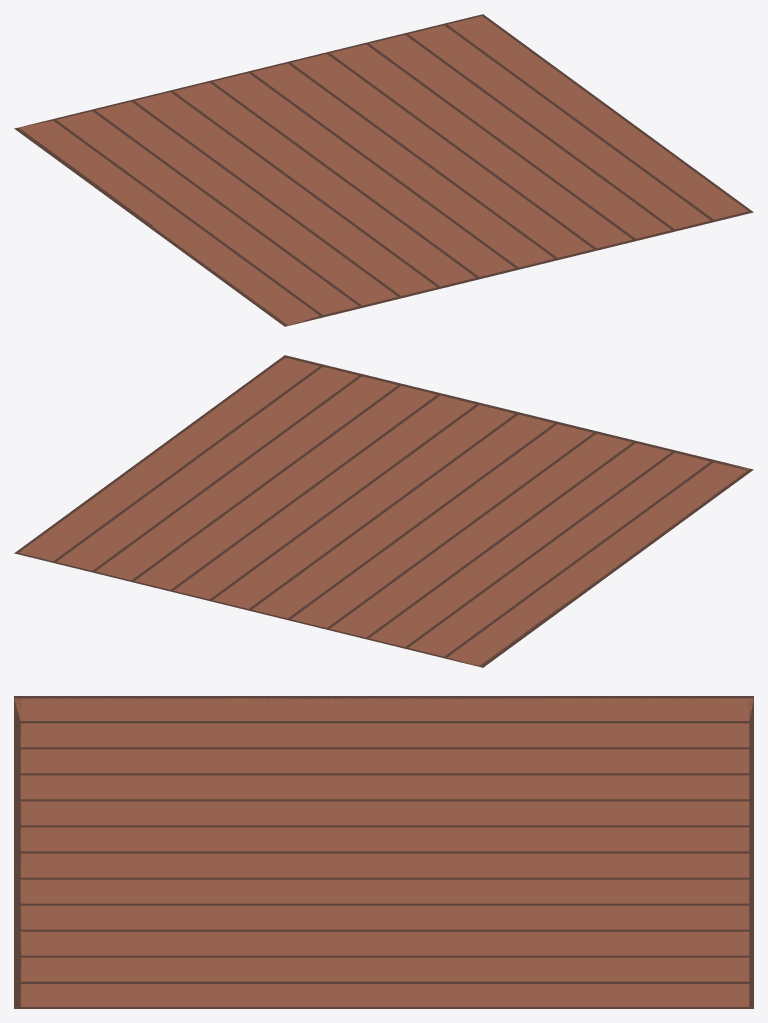
The model's file is 2_japan_floor_v2.fbx.
3 views of the same model, one above another, from view 1: azimuth 30°, elevation 25°; view 2: azimuth 150°, elevation 25°; view 3: azimuth 270°, elevation 25° (orthographic). The views are drawn at different scales.
Parts seen in each view (by area): view 1: 2_japan_floor; view 2: 2_japan_floor; view 3: 2_japan_floor.
Boxes of the visible parts, <box> form: 2_japan_floor: <box>14,14,753,326</box>; 2_japan_floor: <box>14,355,753,667</box>; 2_japan_floor: <box>14,696,753,1008</box>.
Size of the model in its own units: 200 by 3.26e-05 by 200.
